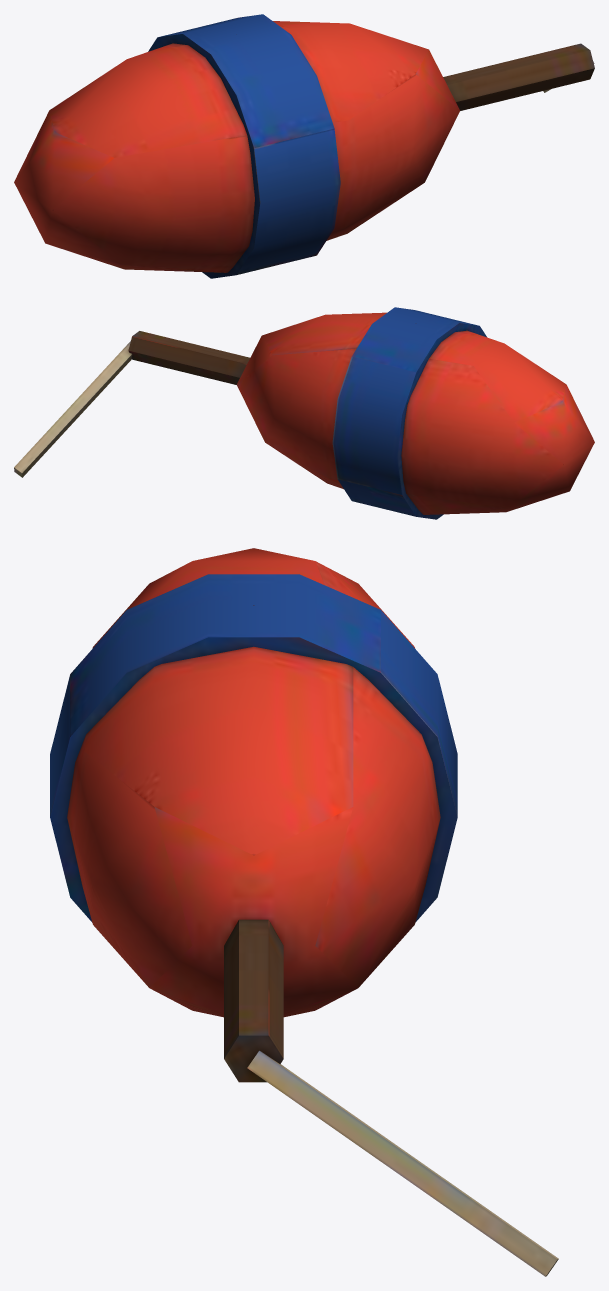
File: boya_suelta.glb
The picture shows the model from 3 angles, top to bottom: view 1: azimuth 30°, elevation 25°; view 2: azimuth 150°, elevation 25°; view 3: azimuth 270°, elevation 25°; orthographic projection. The views are drawn at different scales.
Visible parts, largest first — view 1: boya_suelta; view 2: boya_suelta; view 3: boya_suelta.
Boxes of the visible parts, bbox=[...] form: boya_suelta: bbox=[14, 14, 594, 278]; boya_suelta: bbox=[14, 307, 594, 519]; boya_suelta: bbox=[50, 548, 558, 1276].
Size of the model in its own units: 2.29 by 0.8 by 1.02.
Materials: 1 (1 with a texture image).
